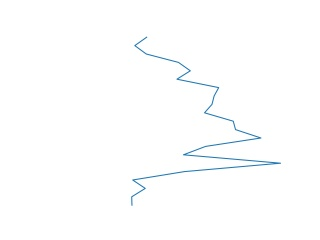floodSwamp: (128, 36, 283, 208)
